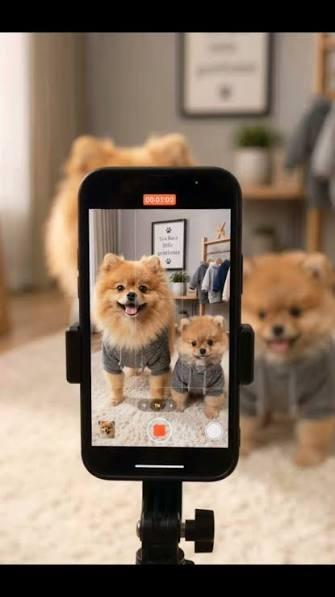adult_dog: (43, 132, 194, 333), (94, 252, 178, 409)
puppy-dog: (239, 250, 335, 469), (164, 313, 229, 424)
